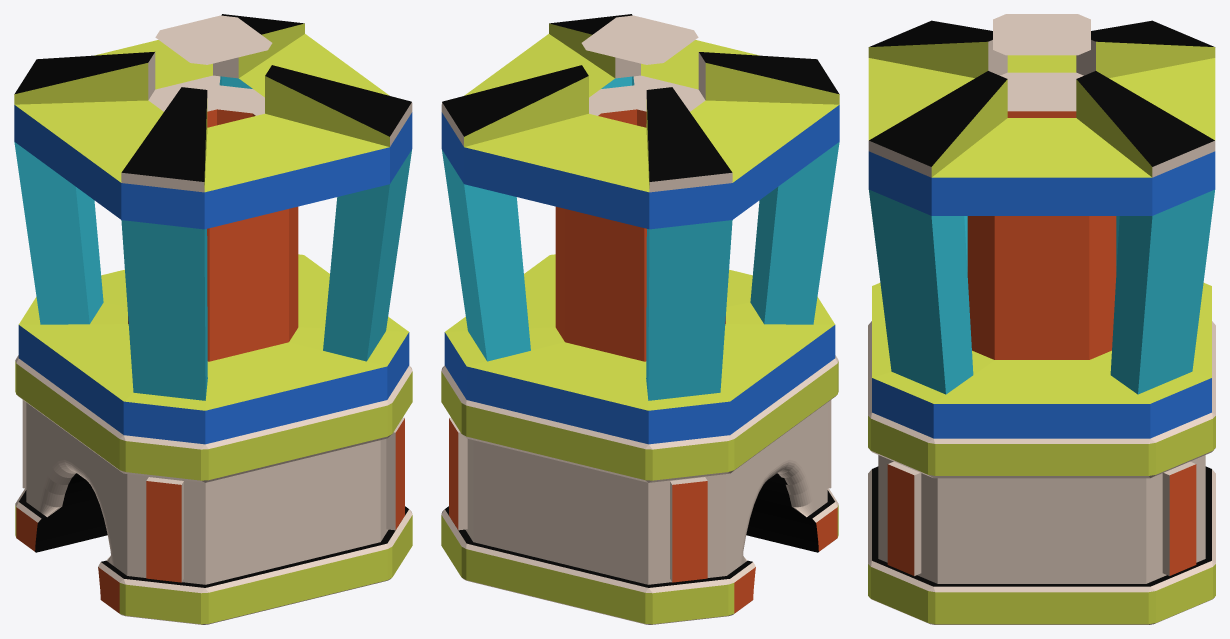
Rendered from tow44.fbx.
3 views of the same model, side by side, from view 1: azimuth 30°, elevation 25°; view 2: azimuth 150°, elevation 25°; view 3: azimuth 270°, elevation 25° (orthographic). The views are drawn at different scales.
Visible parts, largest first — view 1: Cube.002; view 2: Cube.002; view 3: Cube.002.
Part boxes in pixels (box(x1,y1,x2,y2)): Cube.002: box(14, 14, 412, 624); Cube.002: box(441, 14, 839, 624); Cube.002: box(868, 14, 1215, 624).
Size of the model in its own units: 213 by 349 by 213.
